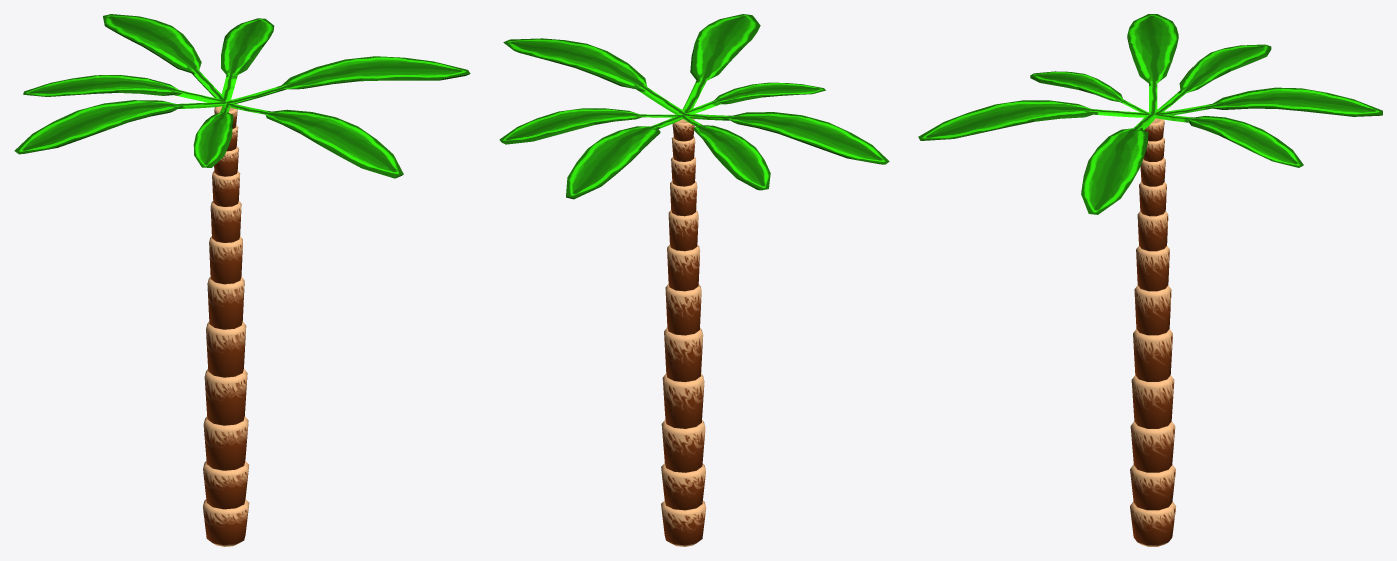
File: palmtree.obj
The picture shows the model from 3 angles, left to right: view 1: azimuth 30°, elevation 25°; view 2: azimuth 150°, elevation 25°; view 3: azimuth 270°, elevation 25°; orthographic projection. The views are drawn at different scales.
Parts seen in each view (by area): view 1: Plane, Cylinder; view 2: Plane, Cylinder; view 3: Plane, Cylinder.
Boxes of the visible parts, box(x1,y1,x2,y2) form: Plane: box(14, 14, 470, 178); Cylinder: box(203, 106, 249, 546); Plane: box(499, 14, 889, 199); Cylinder: box(661, 118, 706, 546); Plane: box(918, 14, 1382, 214); Cylinder: box(1130, 118, 1176, 546).
Bounding box in the file's own units: 35.59 × 36.66 × 34.77.
Materials: 2 (2 with a texture image).
